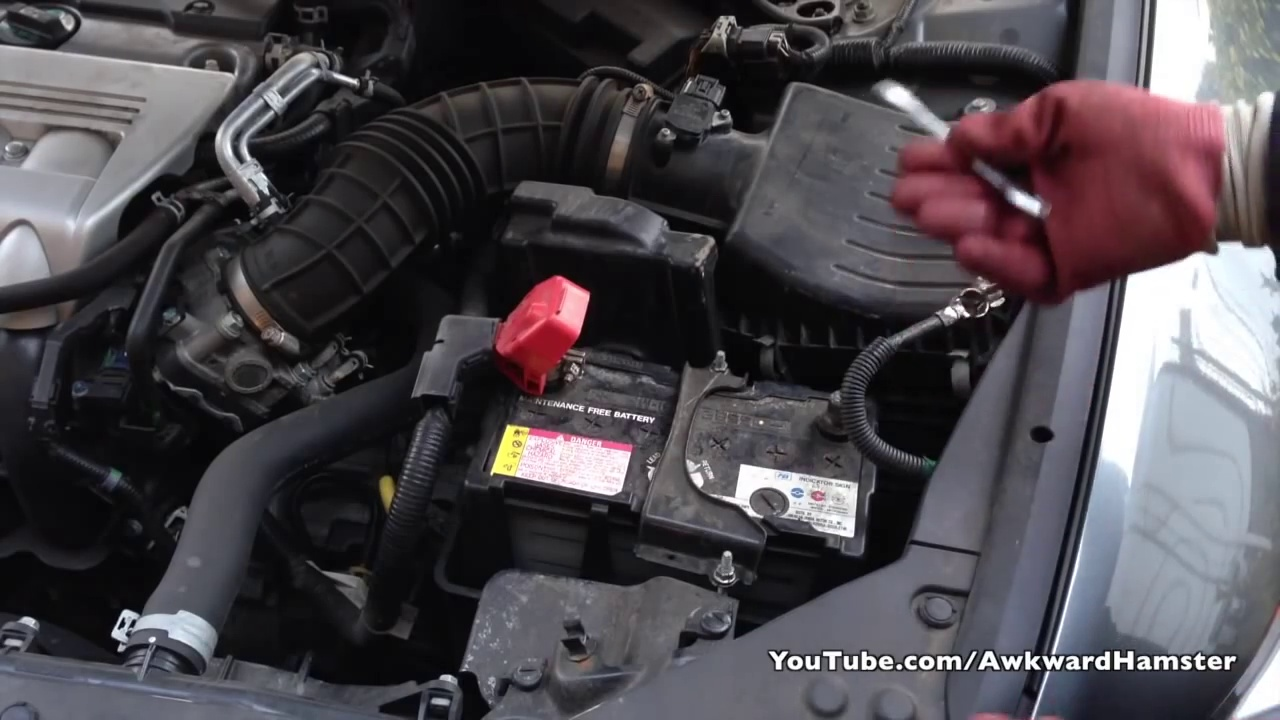battery: (448, 322, 880, 555)
neg_disconnected: (794, 366, 900, 454)
pos_connected: (424, 258, 624, 410)
